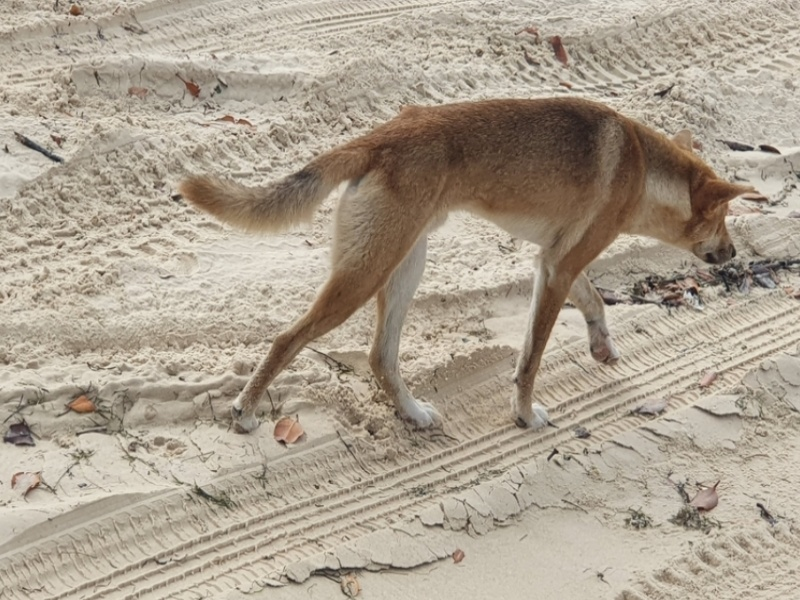dog: (184, 91, 757, 436)
